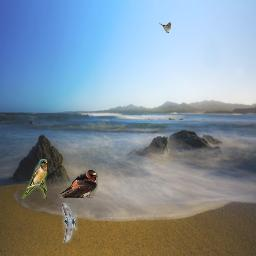Sparrow: (159, 22, 171, 33)
Swallow: (58, 169, 98, 198), (22, 159, 47, 199), (62, 203, 78, 243)
